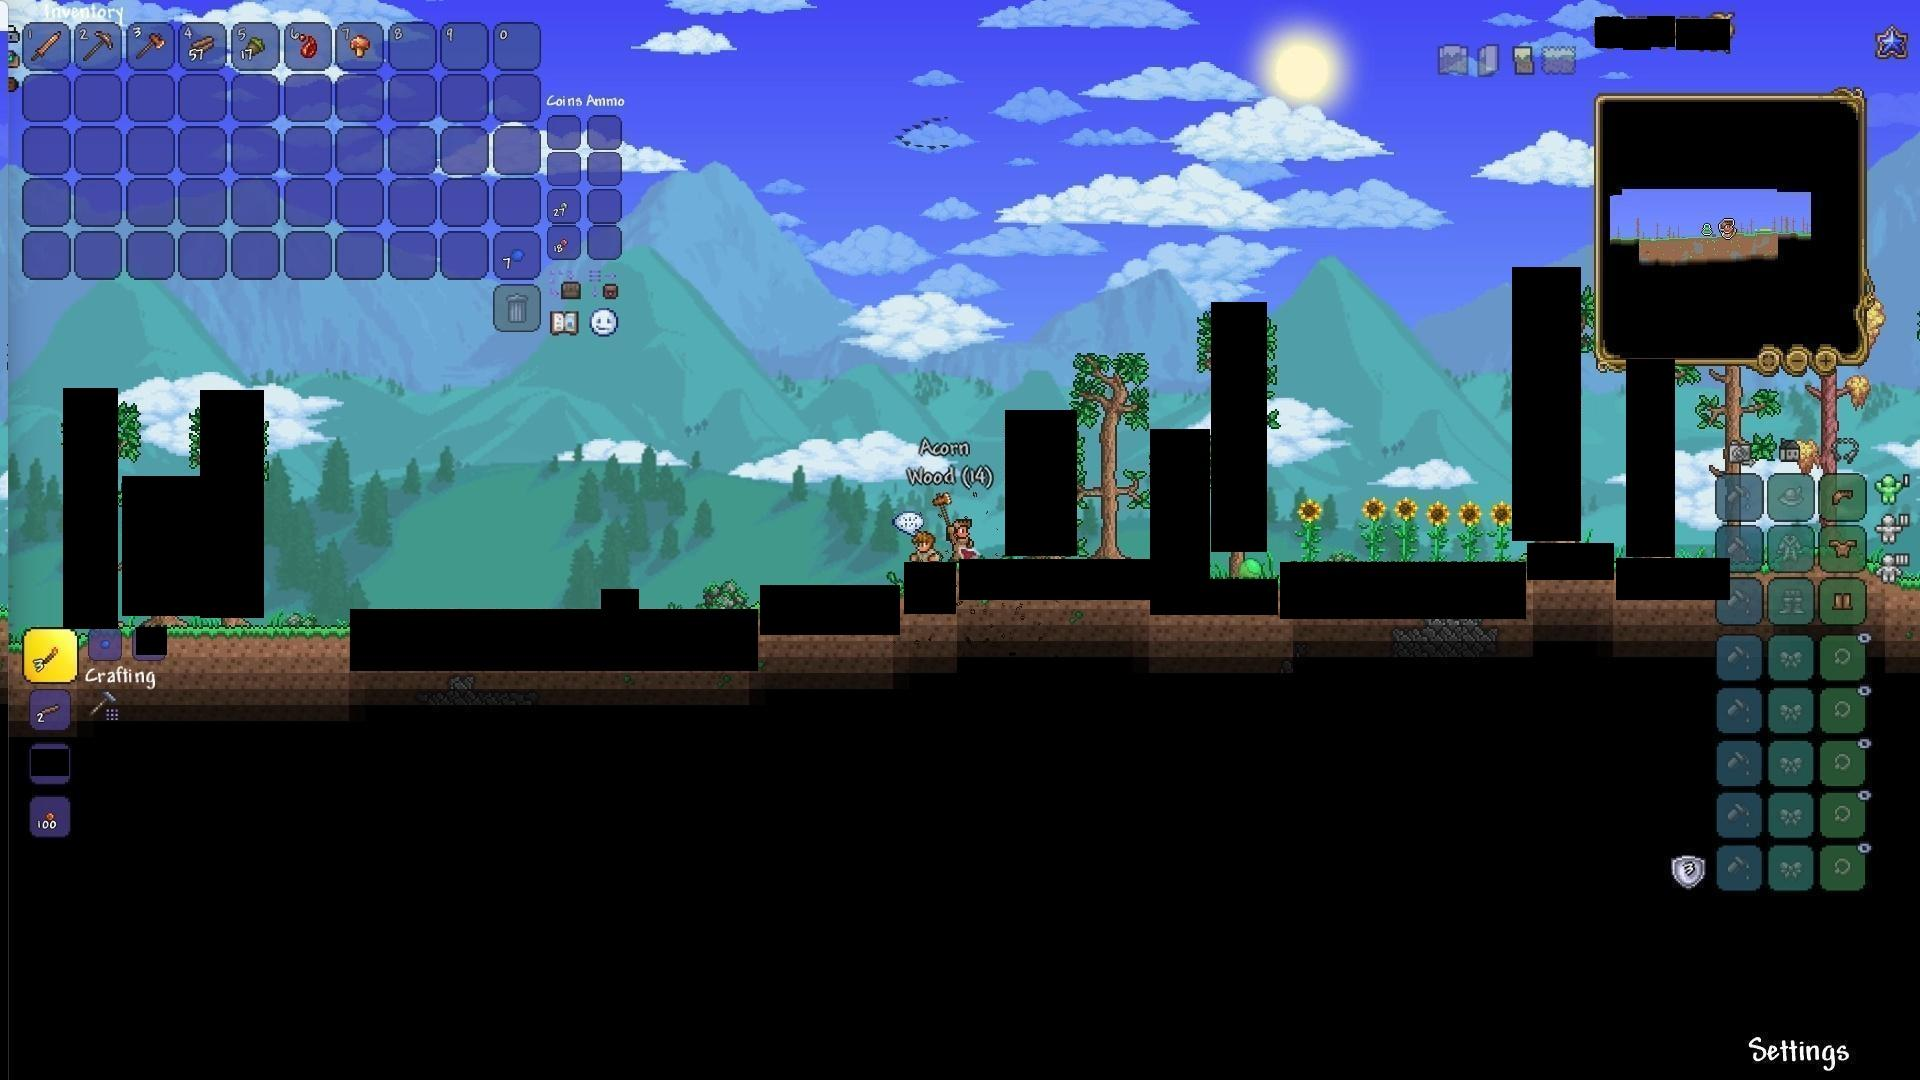breastplate: (1832, 537, 1859, 558)
dirt: (167, 618, 353, 673)
helmet: (1832, 484, 1858, 508)
legs: (1830, 588, 1857, 615)
slime: (1232, 556, 1267, 582)
tree: (1073, 338, 1145, 556)
wood: (189, 32, 218, 61)
